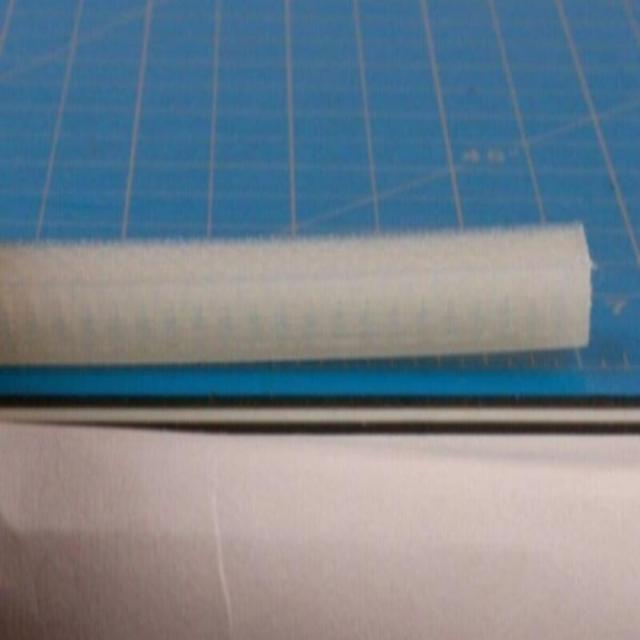Warping: (252, 318, 594, 363)
